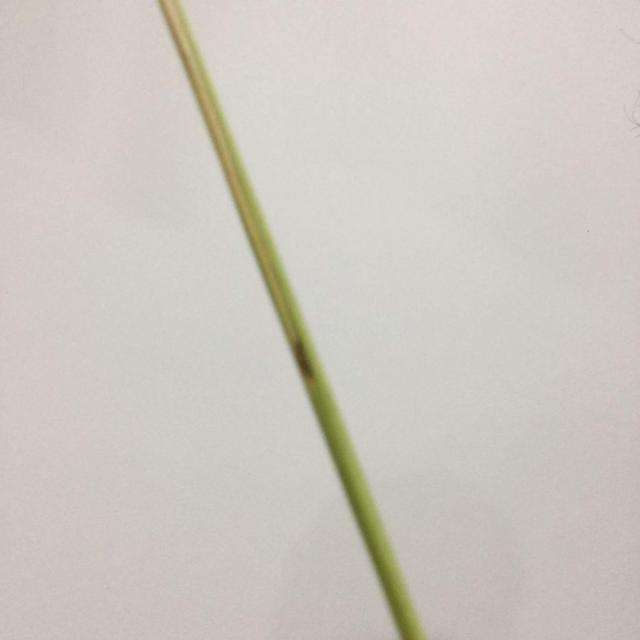brownspots: (286, 326, 322, 382)
